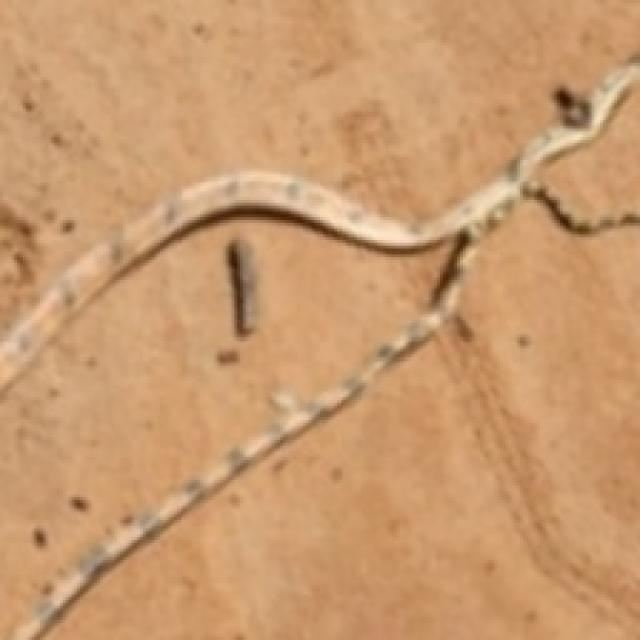dog-toothed cat snake: (0, 57, 640, 639)
